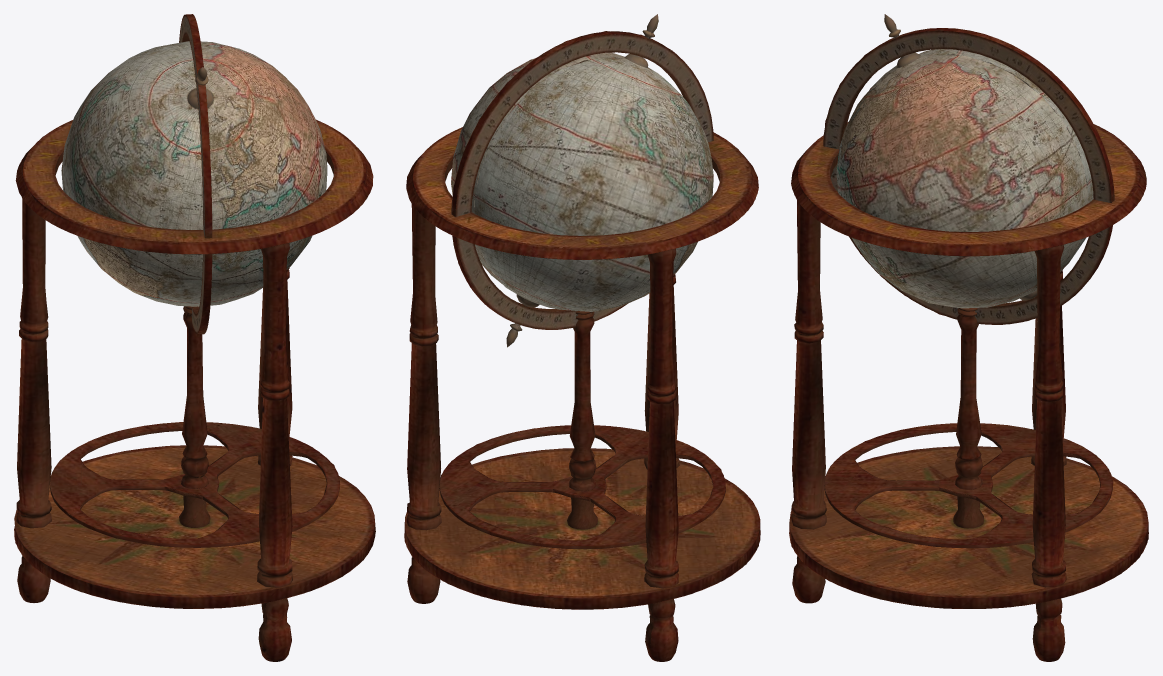
File: floor_globe.gltf
3 renders of one model, left to right at view 1: azimuth 30°, elevation 25°; view 2: azimuth 150°, elevation 25°; view 3: azimuth 270°, elevation 25°, orthographic.
Parts seen in each view (by area): view 1: Cylinder.014; view 2: Cylinder.014; view 3: Cylinder.014.
Boxes of the visible parts, bbox=[...] form: Cylinder.014: bbox=[14, 14, 375, 661]; Cylinder.014: bbox=[404, 14, 760, 661]; Cylinder.014: bbox=[789, 14, 1148, 661].
Size of the model in its own units: 79.2 by 138 by 79.36.
Materials: 1 (1 with a texture image).
